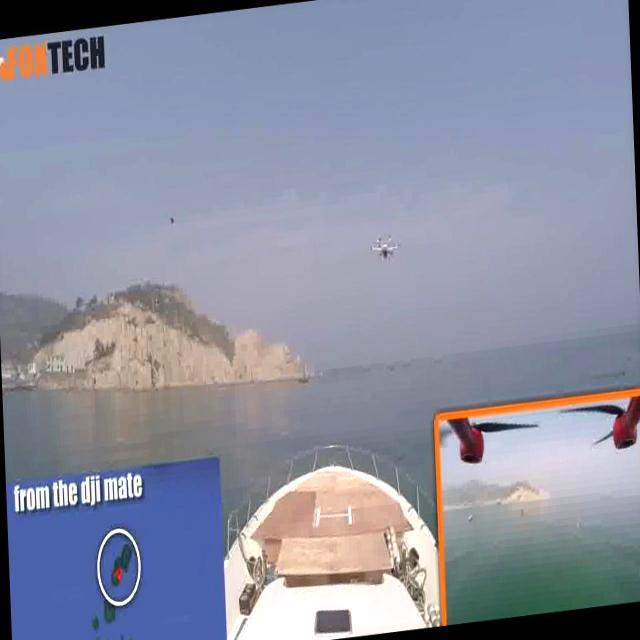drone: (366, 224, 406, 272), (162, 210, 185, 229)
